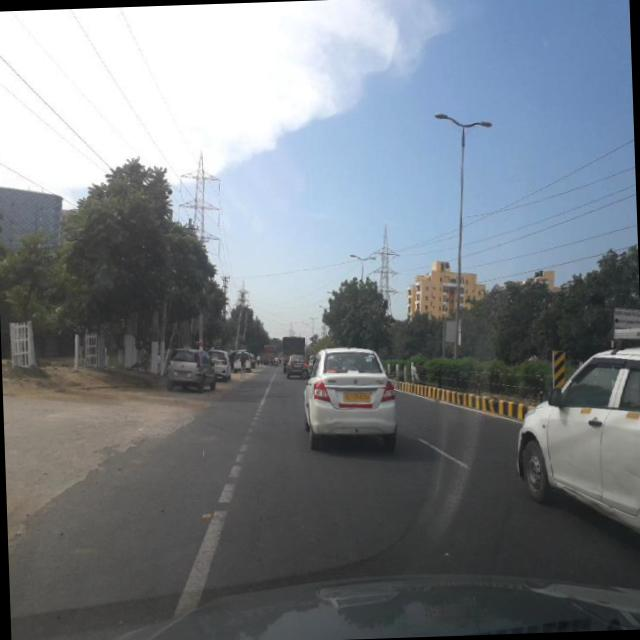crack: (176, 439, 512, 598)
